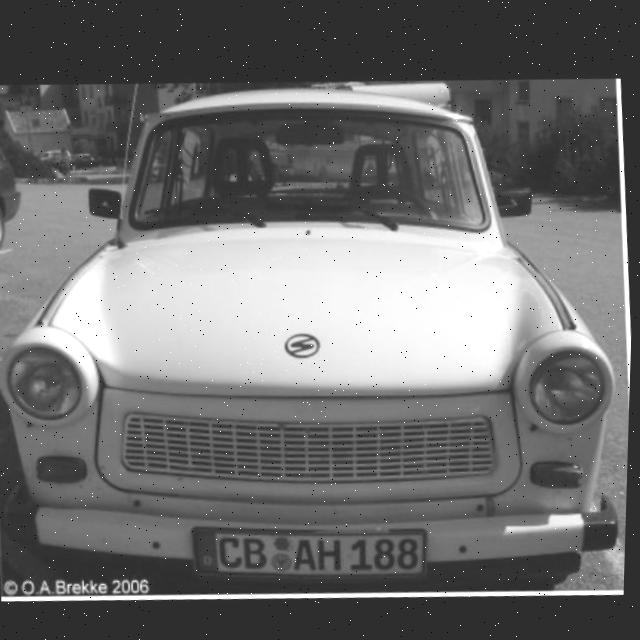license-plates: (194, 531, 425, 577)
